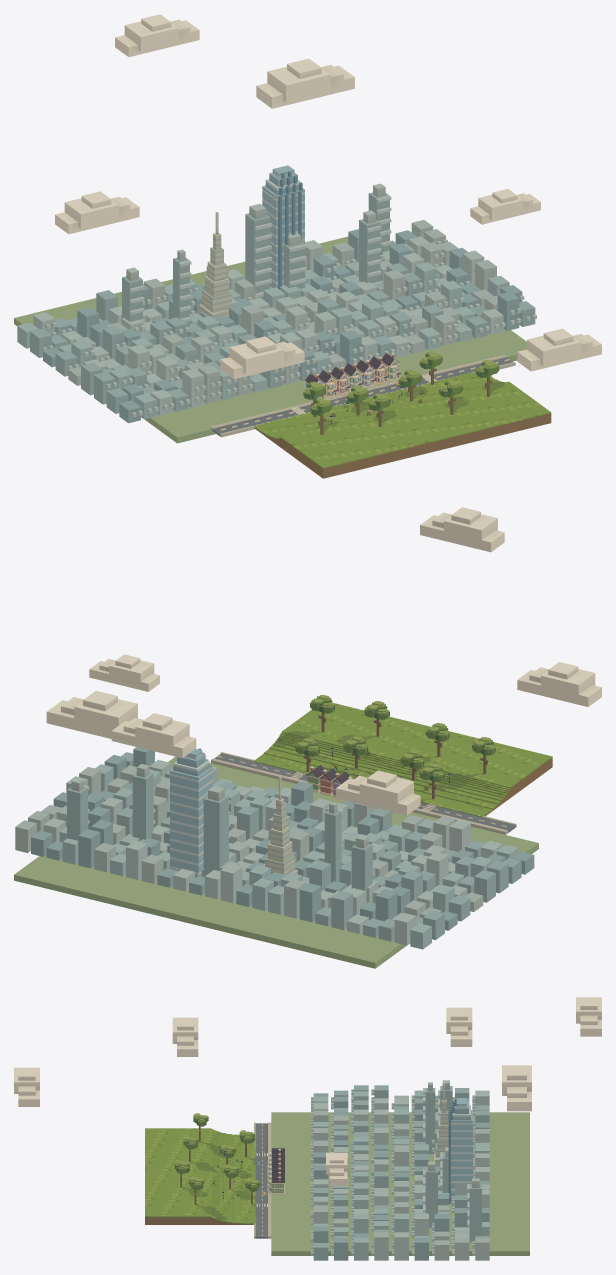
The model's file is painted-ladies.glb.
3 renders of one model, top to bottom at view 1: azimuth 30°, elevation 25°; view 2: azimuth 150°, elevation 25°; view 3: azimuth 270°, elevation 25°, orthographic. The views are drawn at different scales.
Parts seen in each view (by area): view 1: AlamoSquare_Downtown, AlamoSquare_Lawn, AlamoSquare_Street_and_Park, Cloud_1, AlamoSquare_Painted_Ladies, Cloud_4, Cloud_2, Cloud_0, Cloud_5, Cloud_3; view 2: AlamoSquare_Downtown, AlamoSquare_Street_and_Park, AlamoSquare_Lawn, Cloud_1, Cloud_2, Cloud_4, Cloud_0, Cloud_5, Cloud_3, AlamoSquare_Painted_Ladies; view 3: AlamoSquare_Downtown, AlamoSquare_Street_and_Park, AlamoSquare_Lawn, Cloud_1, Cloud_0, Cloud_4, Cloud_2, Cloud_5, AlamoSquare_Painted_Ladies, Cloud_3.
Boxes of the visible parts, left/top/right/bottom form: AlamoSquare_Downtown: left=17, top=165, right=536, bottom=423; AlamoSquare_Lawn: left=254, top=371, right=551, bottom=478; AlamoSquare_Street_and_Park: left=14, top=236, right=526, bottom=443; Cloud_1: left=256, top=58, right=354, bottom=108; AlamoSquare_Painted_Ladies: left=305, top=353, right=400, bottom=400; Cloud_4: left=220, top=336, right=304, bottom=379; Cloud_2: left=115, top=14, right=199, bottom=56; Cloud_0: left=55, top=191, right=139, bottom=234; Cloud_5: left=517, top=328, right=601, bottom=371; Cloud_3: left=470, top=189, right=540, bottom=224; AlamoSquare_Downtown: left=15, top=747, right=534, bottom=949; AlamoSquare_Street_and_Park: left=14, top=713, right=538, bottom=968; AlamoSquare_Lawn: left=254, top=702, right=552, bottom=817; Cloud_1: left=46, top=691, right=143, bottom=738; Cloud_2: left=111, top=713, right=196, bottom=758; Cloud_4: left=517, top=662, right=601, bottom=706; Cloud_0: left=336, top=770, right=420, bottom=815; Cloud_5: left=420, top=507, right=504, bottom=552; Cloud_3: left=89, top=654, right=159, bottom=691; AlamoSquare_Painted_Ladies: left=307, top=764, right=394, bottom=813; AlamoSquare_Downtown: left=311, top=1080, right=489, bottom=1260; AlamoSquare_Street_and_Park: left=180, top=1112, right=529, bottom=1255; AlamoSquare_Lawn: left=145, top=1128, right=255, bottom=1224; Cloud_1: left=502, top=1065, right=531, bottom=1111; Cloud_0: left=446, top=1007, right=472, bottom=1046; Cloud_4: left=172, top=1017, right=198, bottom=1056; Cloud_2: left=576, top=997, right=601, bottom=1036; Cloud_5: left=14, top=1067, right=39, bottom=1106; AlamoSquare_Painted_Ladies: left=267, top=1148, right=284, bottom=1195; Cloud_3: left=326, top=1152, right=347, bottom=1185.
Size of what is drawn, in the model's own units: 268 by 141 by 408.
